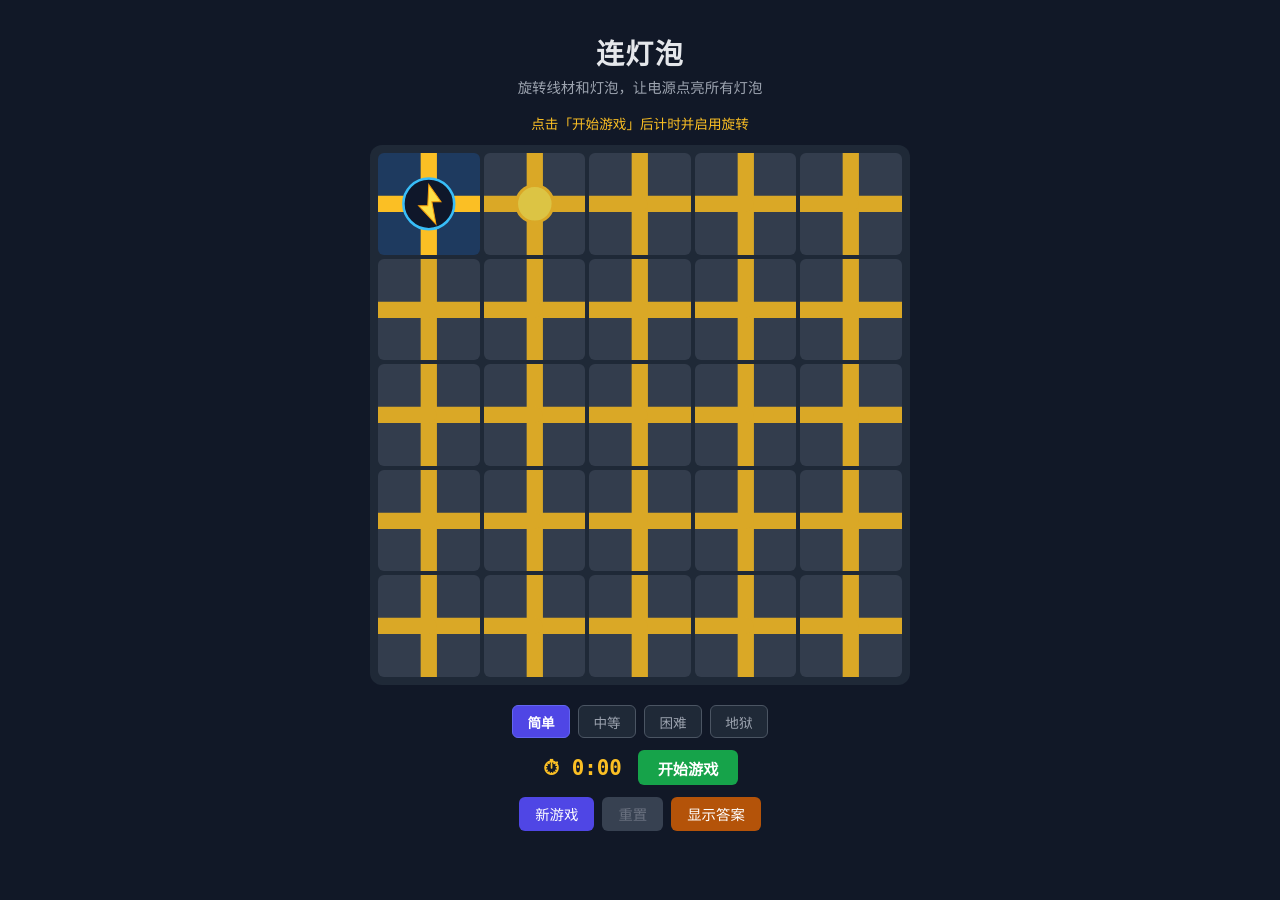
Test: App - 显示答案 › 确认后显示答案横幅
This screenshot has width=1280, height=900.
Click the button "显示答案". click: (716, 814)
box: [671,797,761,831]
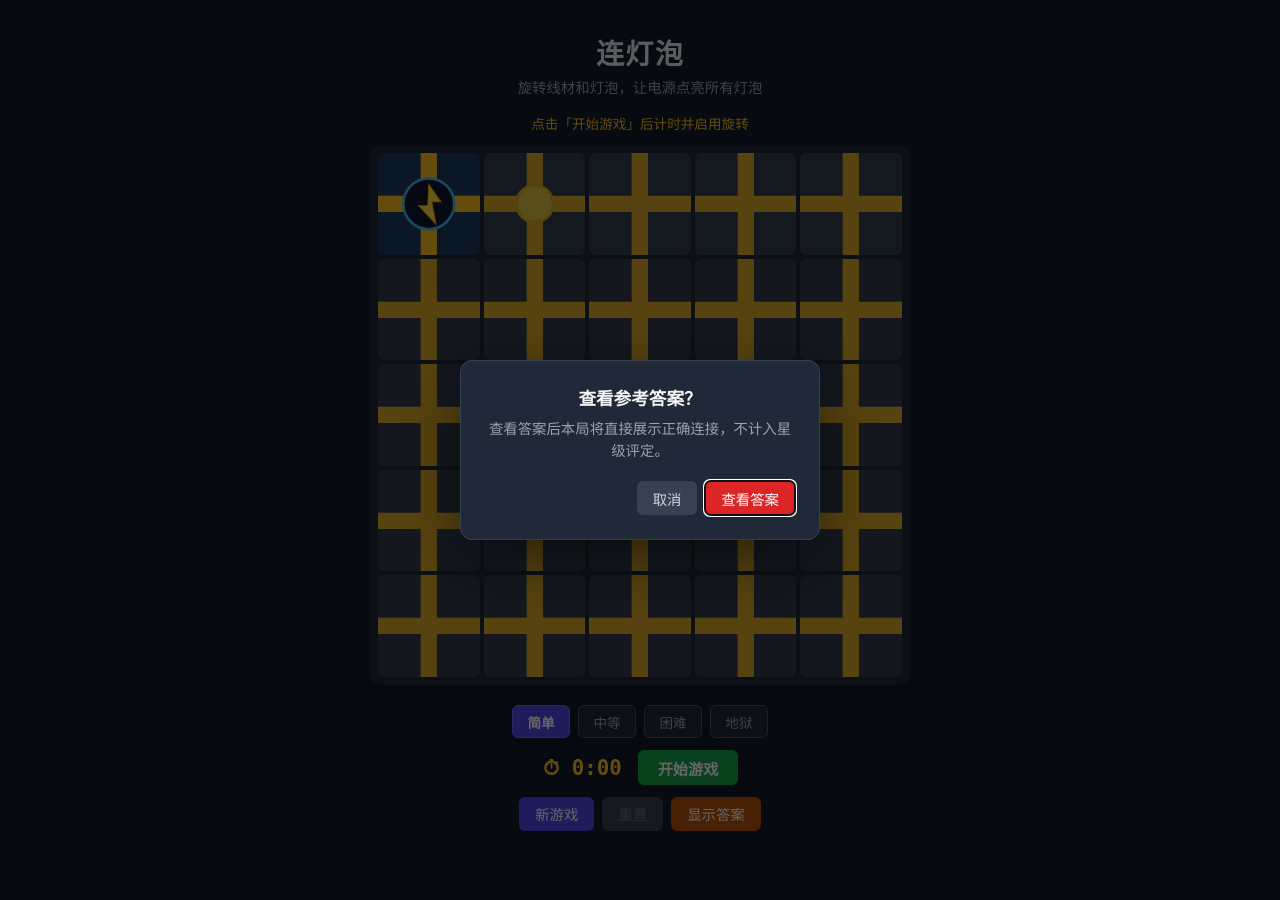
Click the button "查看答案". click: (750, 498)
box: [705,481,795,515]
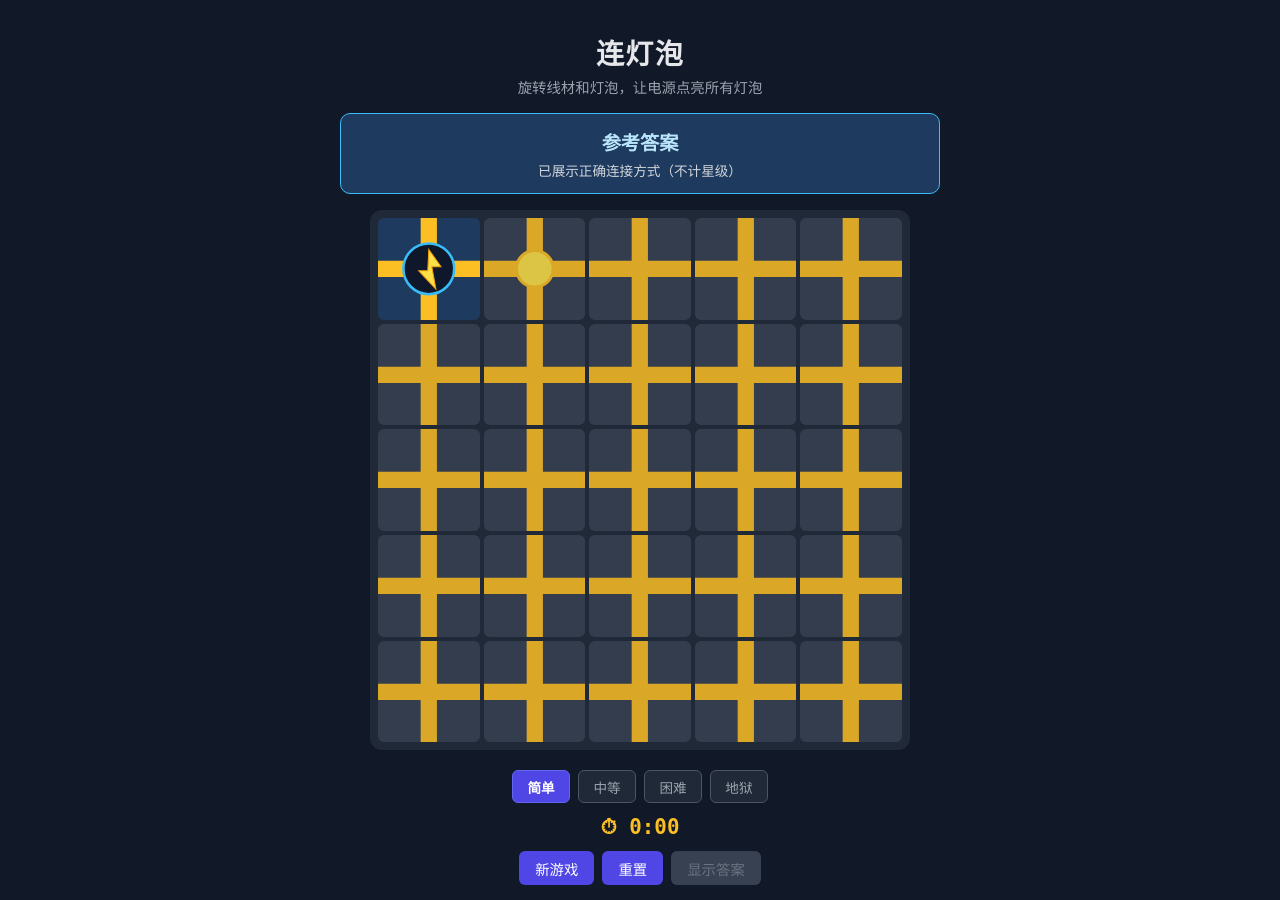
Expected: the text "参考答案" is shown, [602,131,678,155]
Expected: the text "已展示正确连接方式（不计星级）" is shown, [538,163,742,179]
